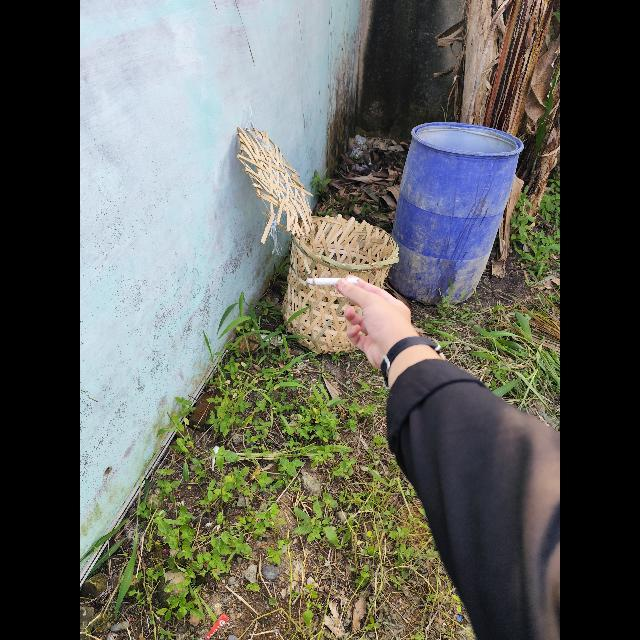rokok: (297, 271, 347, 287)
